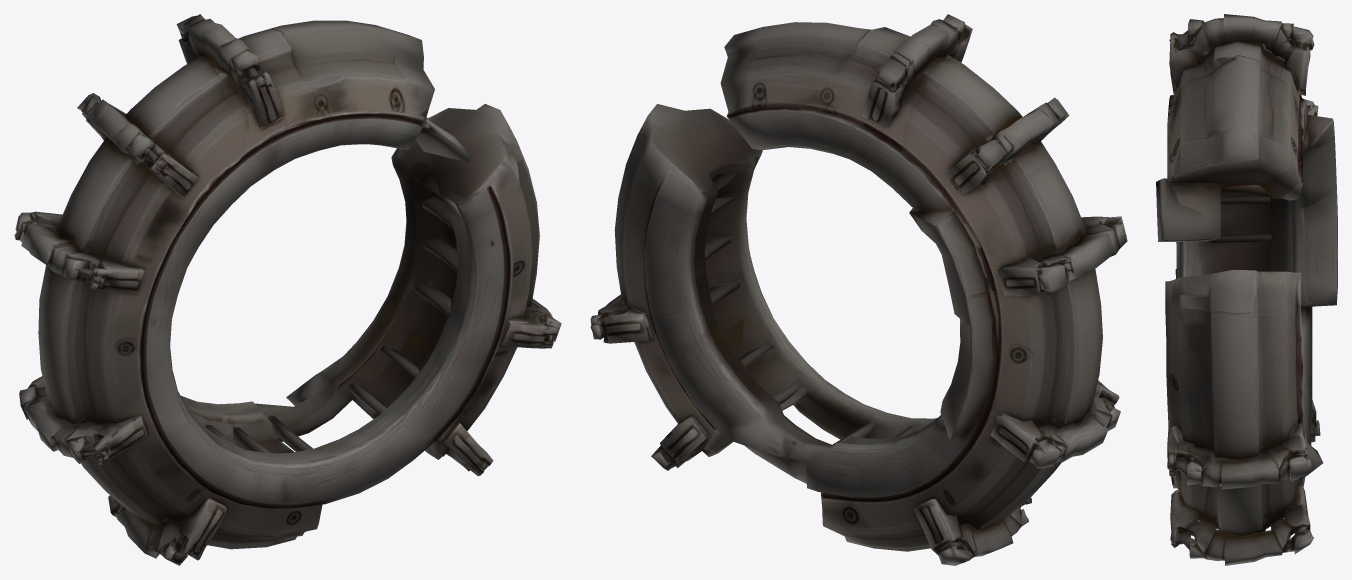
Rendered from original_glb.glb.
The picture shows the model from 3 angles, left to right: view 1: azimuth 30°, elevation 25°; view 2: azimuth 150°, elevation 25°; view 3: azimuth 270°, elevation 25°; orthographic projection. The views are drawn at different scales.
Visible parts, largest first — view 1: Docking Ring Fragment; view 2: Docking Ring Fragment; view 3: Docking Ring Fragment.
Part boxes in pixels (x1,y1,x2,y2): Docking Ring Fragment: (14,14,561,565); Docking Ring Fragment: (590,14,1127,565); Docking Ring Fragment: (1156,14,1337,565).
Bounding box in the file's own units: 0.998 × 0.998 × 0.3457.
Materials: 1 (1 with a texture image).
